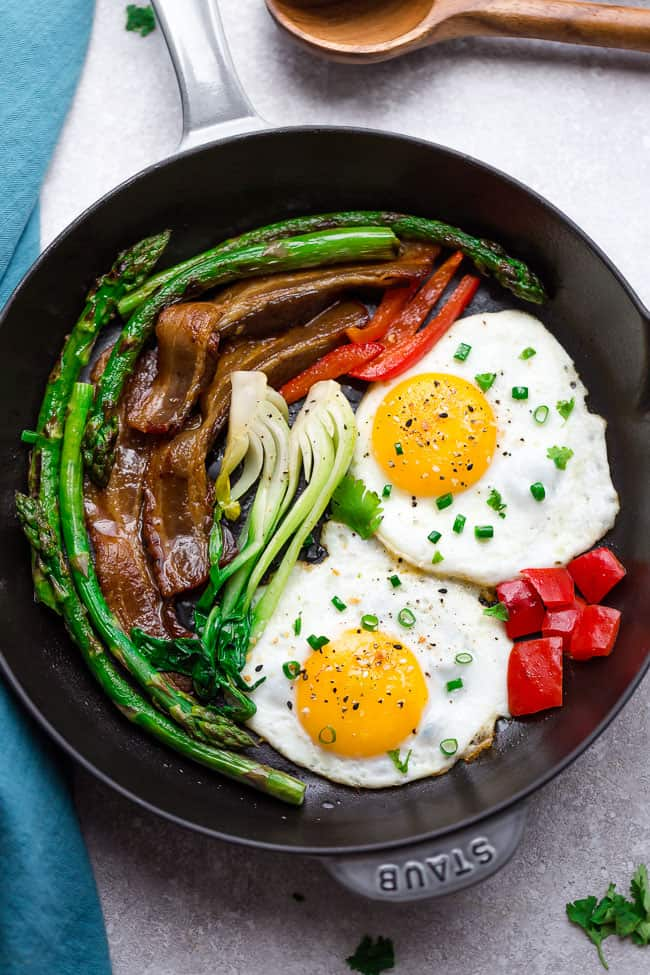fried egg: (358, 321, 615, 581), (239, 557, 497, 777)
